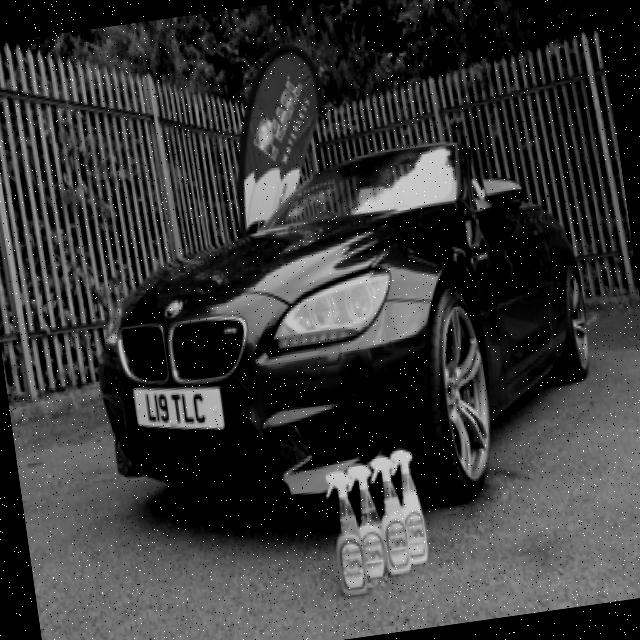Autre: (132, 378, 228, 435)
